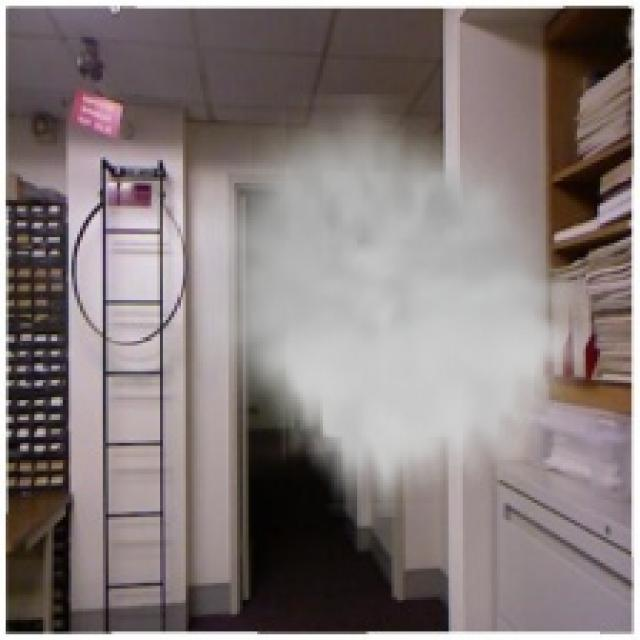smoke: (197, 94, 586, 517)
